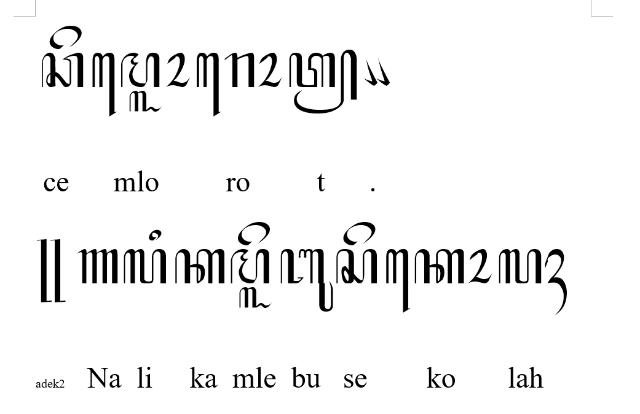-t: (288, 48, 358, 114)
N: (78, 249, 119, 285)
_h1: (544, 248, 568, 316)
_l: (129, 91, 163, 114), (239, 288, 273, 310)
adeg2: (36, 240, 66, 304)
bu: (280, 248, 334, 314)
c: (41, 51, 84, 89)
e: (342, 221, 376, 247), (48, 24, 82, 49), (237, 221, 270, 246)
e1: (196, 51, 220, 117), (386, 248, 410, 314), (92, 52, 116, 117)
i: (148, 229, 162, 241)
k: (414, 248, 464, 286), (174, 249, 226, 285)
kom: (364, 58, 378, 86), (376, 58, 390, 86)
l: (122, 249, 168, 285), (498, 249, 542, 285)
m: (230, 248, 270, 286), (120, 52, 162, 88)
o: (466, 248, 492, 286), (257, 52, 283, 88), (166, 52, 190, 88)
r: (224, 52, 256, 90)
s: (336, 249, 378, 285)
